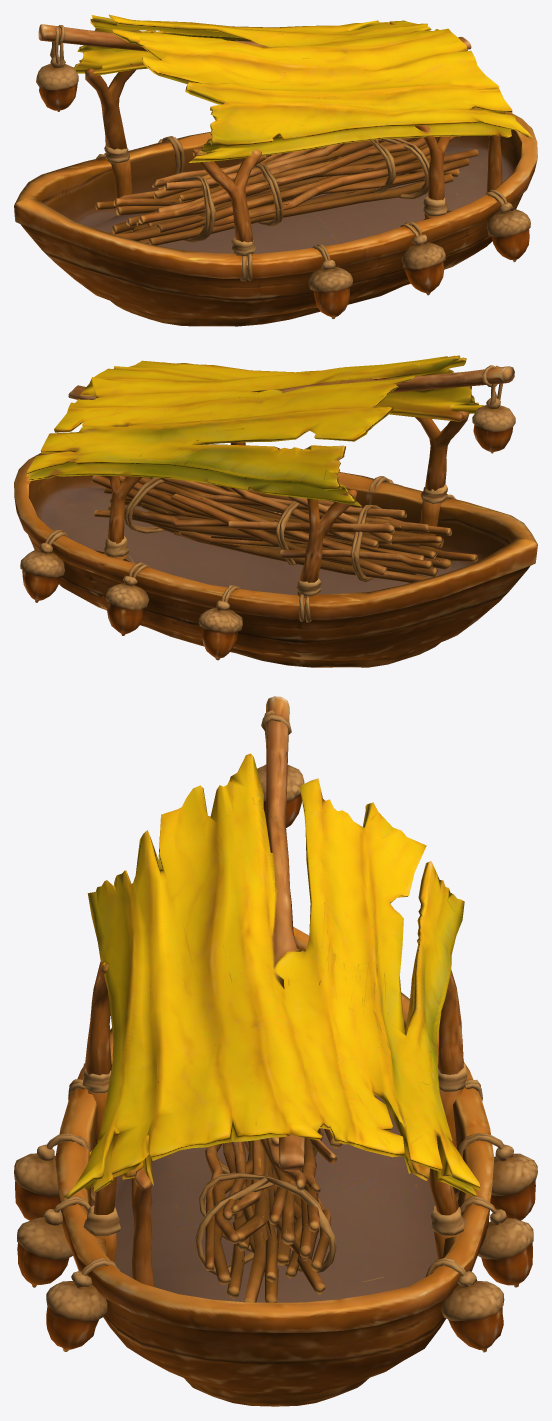
File: twig-barge.glb
3 views of the same model, one above another, from view 1: azimuth 30°, elevation 25°; view 2: azimuth 150°, elevation 25°; view 3: azimuth 270°, elevation 25° (orthographic). The views are drawn at different scales.
Visible parts, largest first — view 1: geometry_0; view 2: geometry_0; view 3: geometry_0.
Part boxes in pixels (bbox=[...]): geometry_0: bbox=[14, 14, 537, 326]; geometry_0: bbox=[14, 355, 537, 667]; geometry_0: bbox=[14, 696, 537, 1406].
Size of the model in its own units: 0.9575 by 0.5532 by 0.6143.
1 material, 1 textured.
